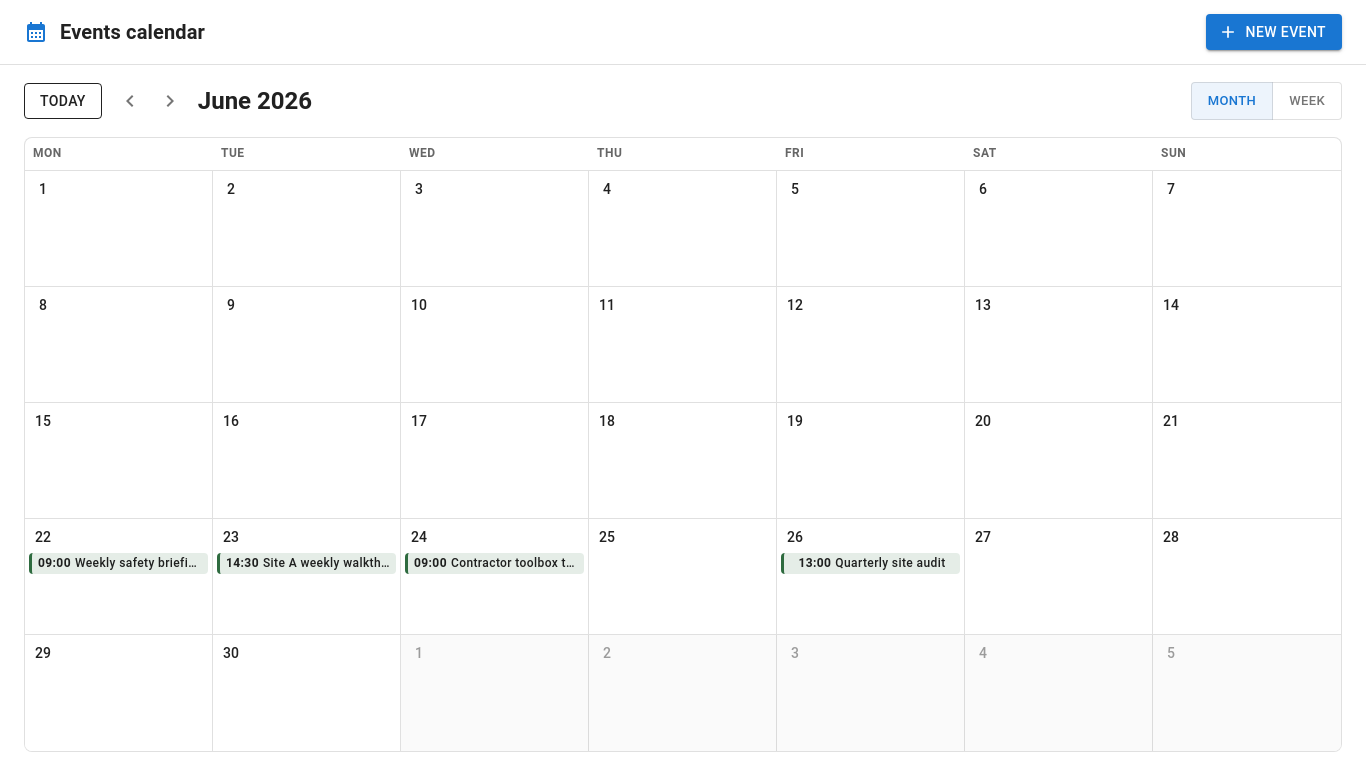
Test: CalendarApp › renames and then deletes an event
This screenshot has width=1366, height=768.
Click the button with aria-label "Weekly safety briefing,". click: [118, 564]
box: [29,553,208,574]
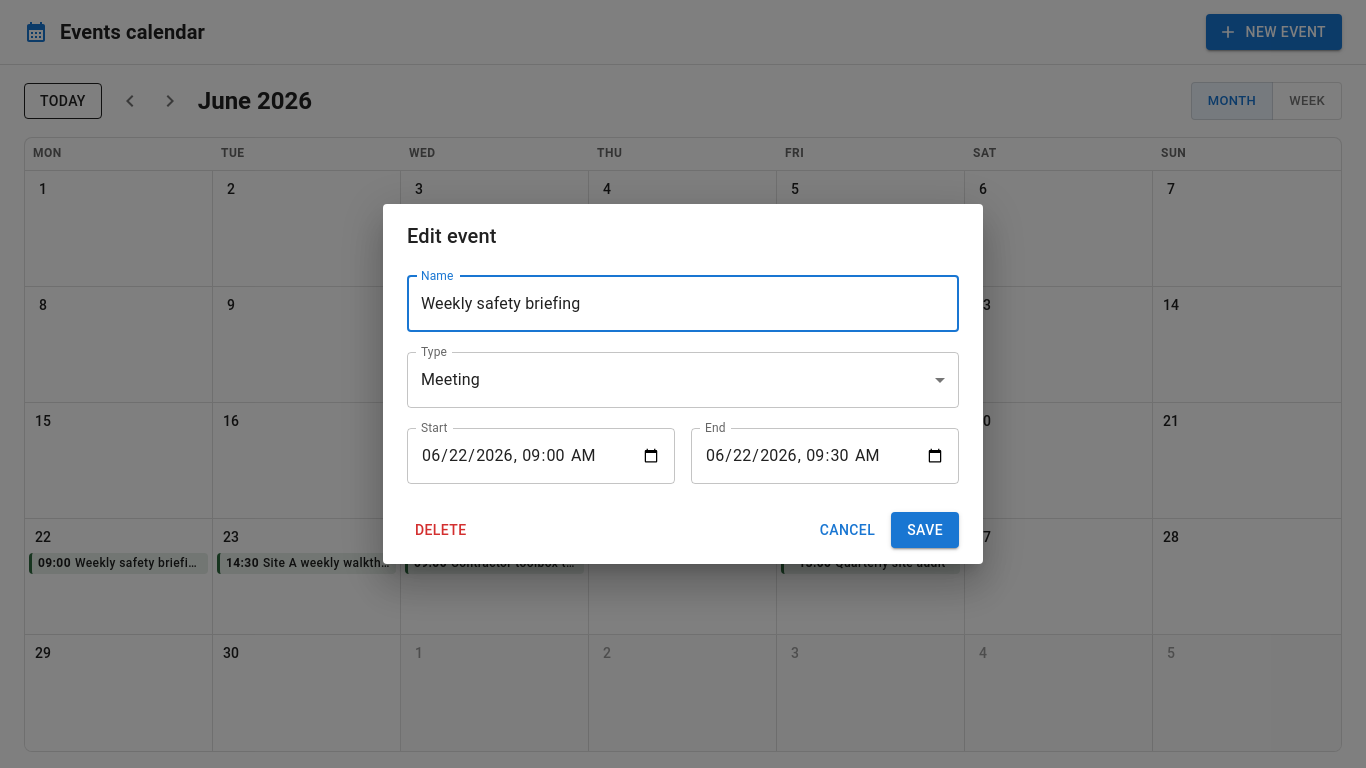
Replace the text in the field labelled "Name" with "Monday safety briefing". click: [683, 304]
box: [407,276,959,332]
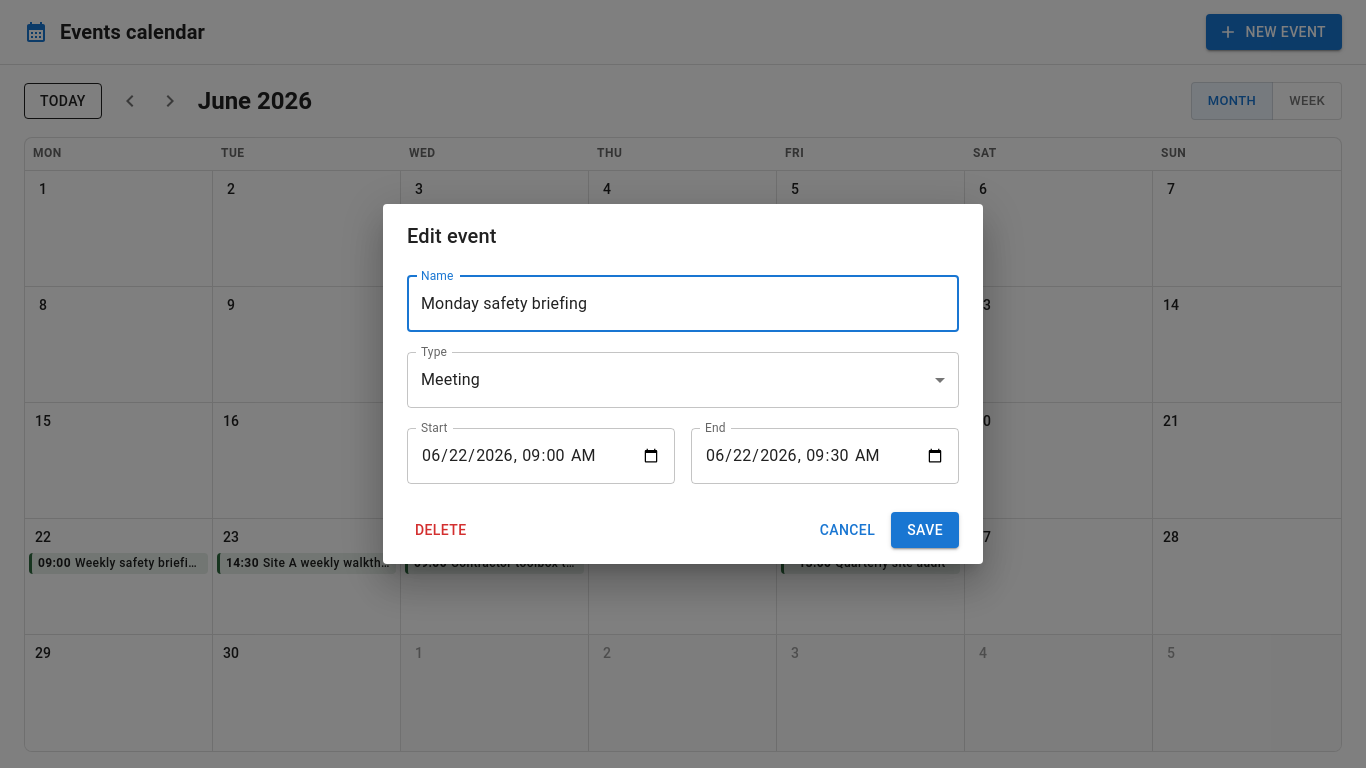
Click the button "Save". click: [925, 530]
box: [891,512,959,548]
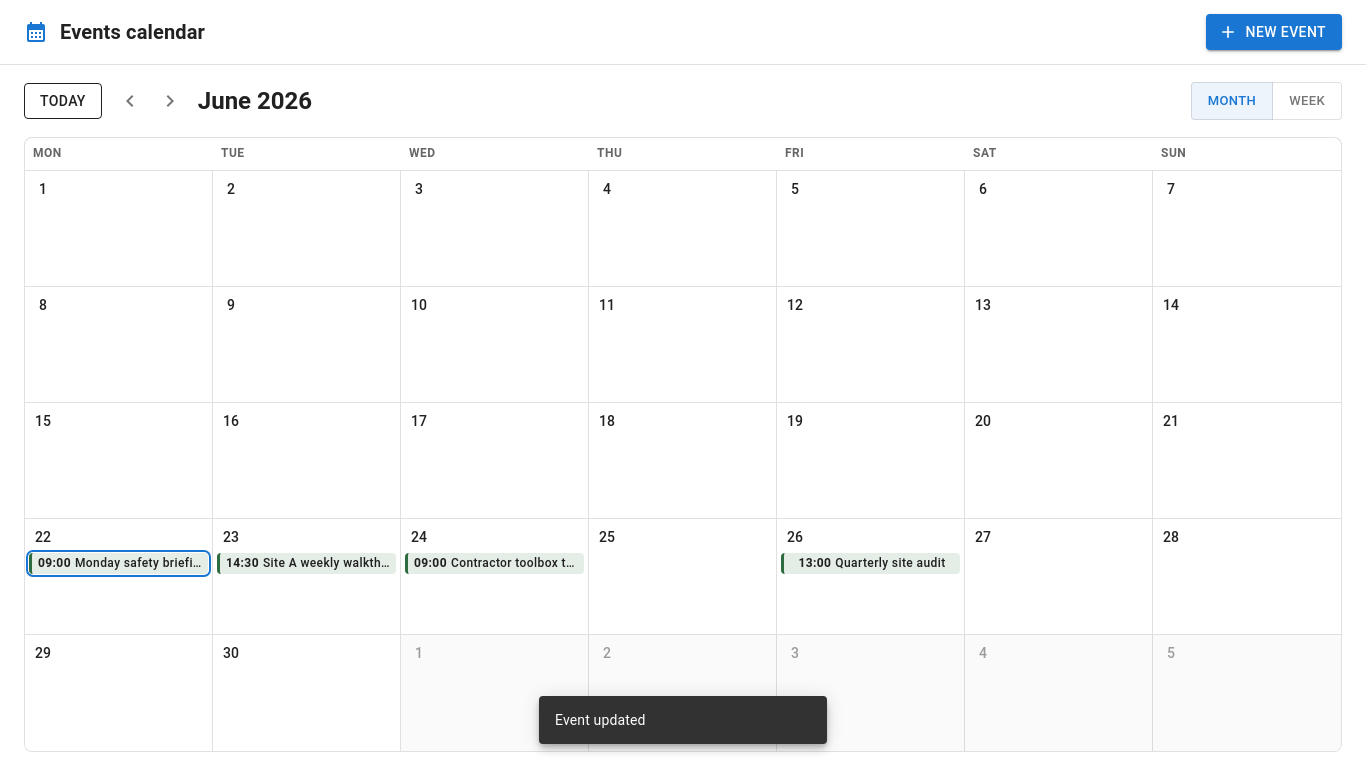
Result: the text "Event updated" is shown at [555,712,646,728]
Click the button with aria-label "Monday safety briefing,". click: [118, 564]
box: [29,553,208,574]
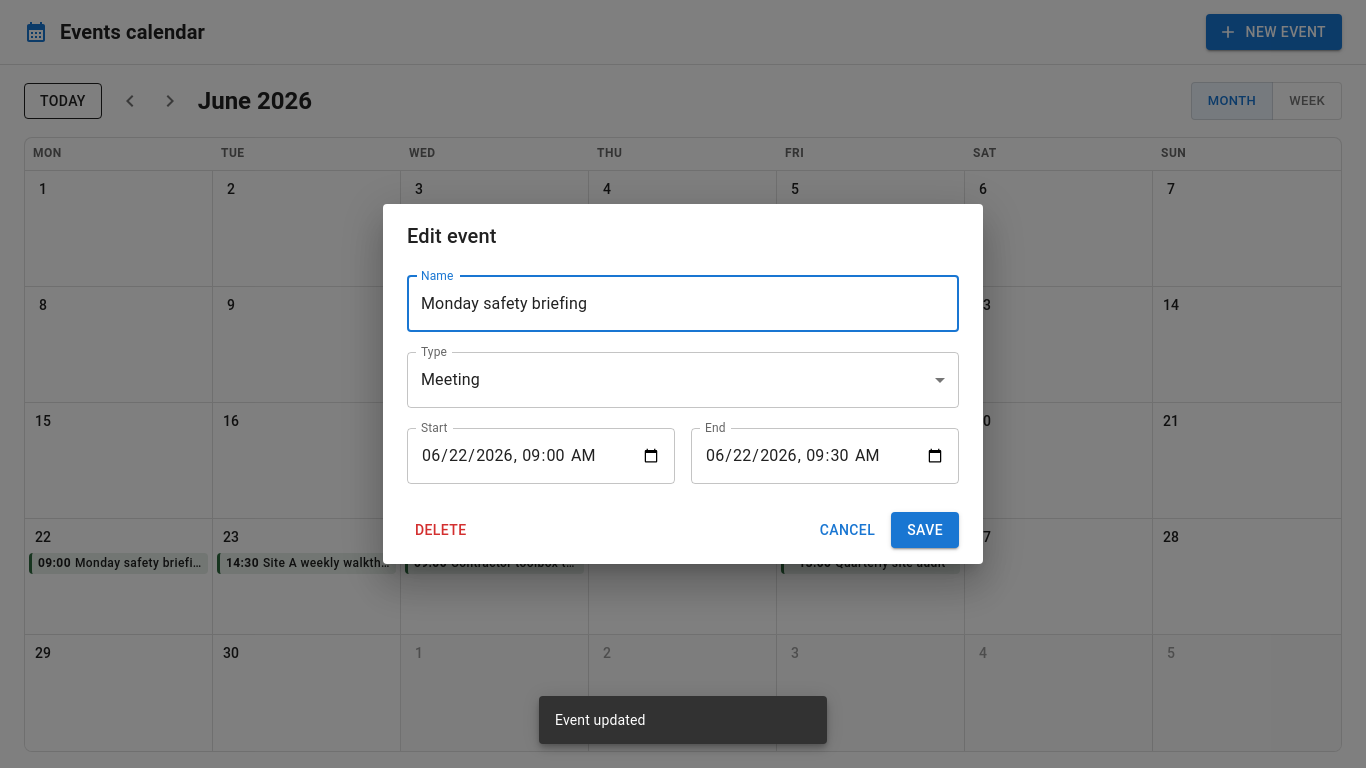
Click the button "Delete". click: [441, 530]
box: [407,512,474,548]
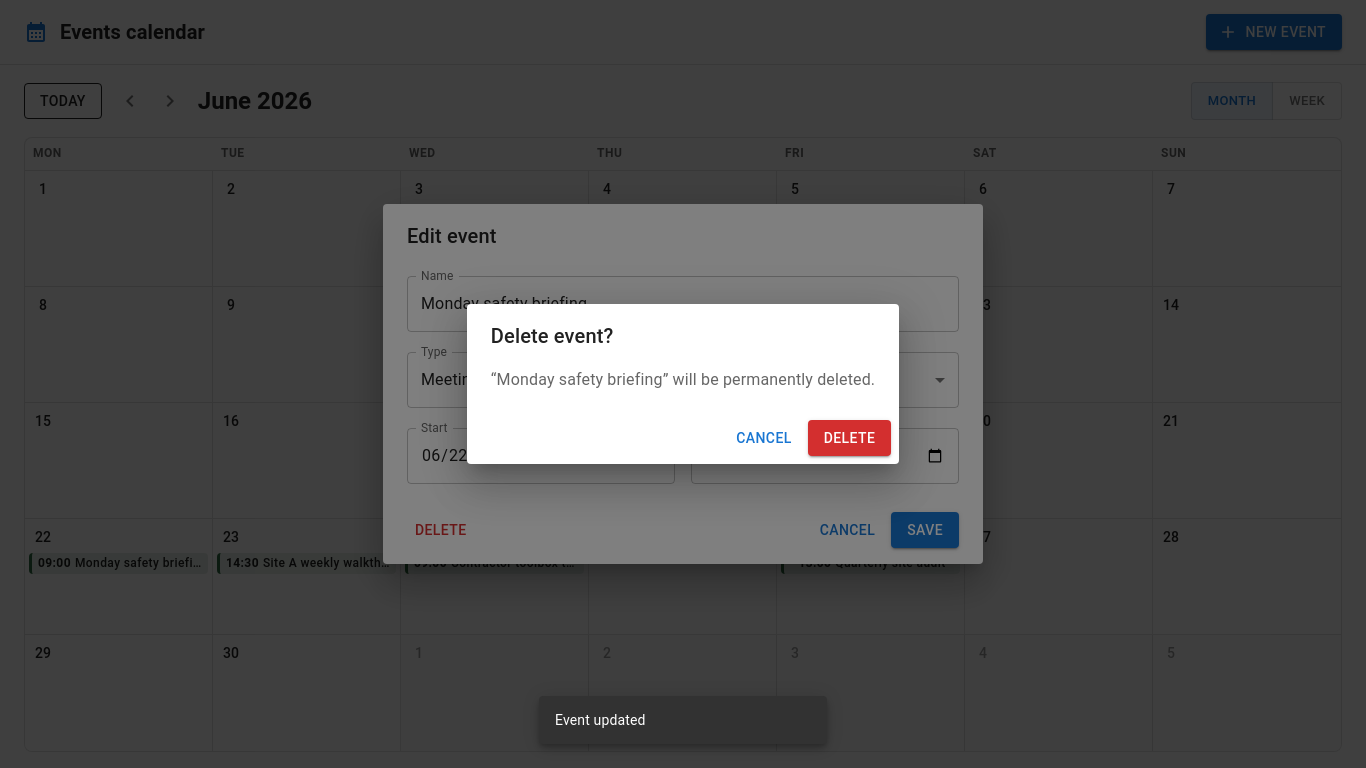
Click the button "Delete". click: [849, 438]
box: [808,420,891,456]
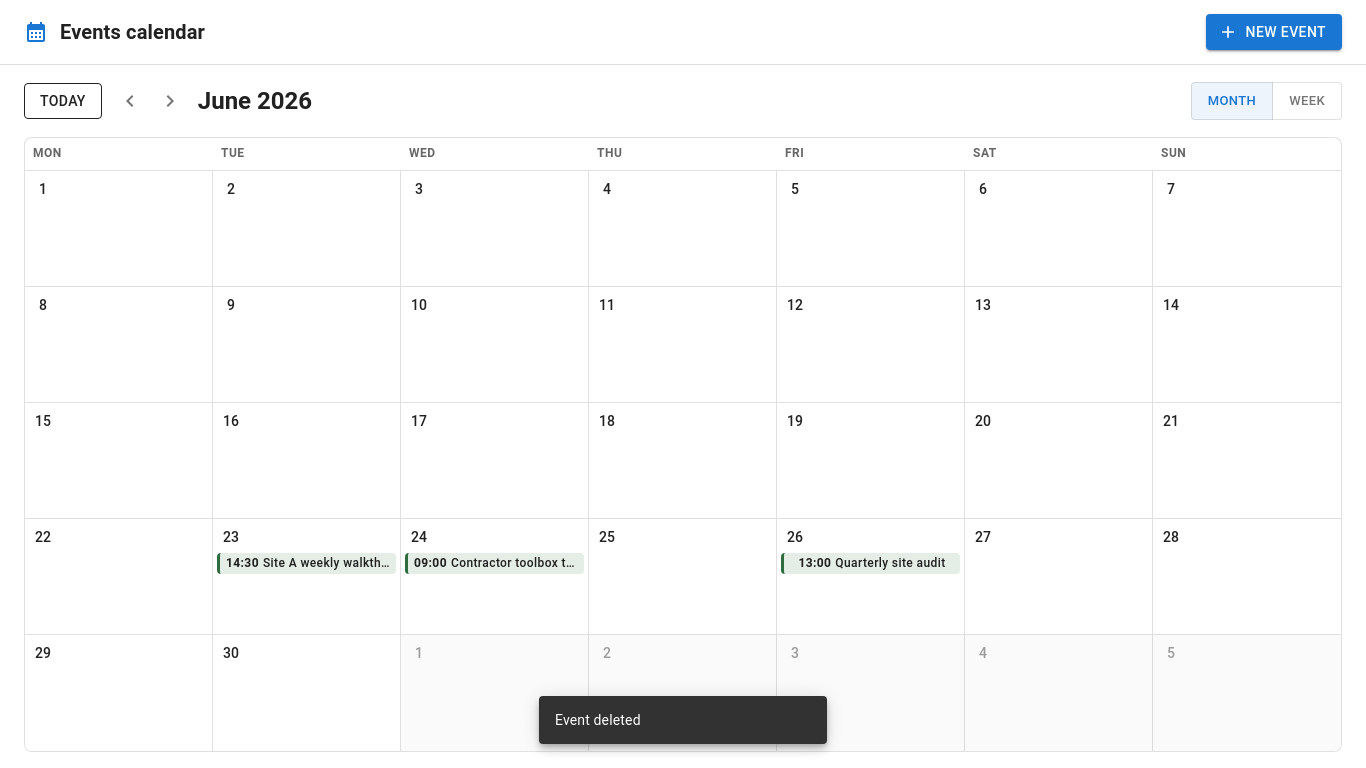
Result: the text "Event deleted" is shown at [555,712,641,728]
